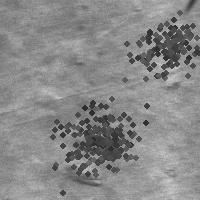rolled-in_scale: (33, 83, 151, 200), (106, 1, 200, 97), (54, 96, 138, 180), (71, 91, 149, 169), (56, 94, 109, 192), (134, 7, 200, 81), (157, 66, 183, 94)
